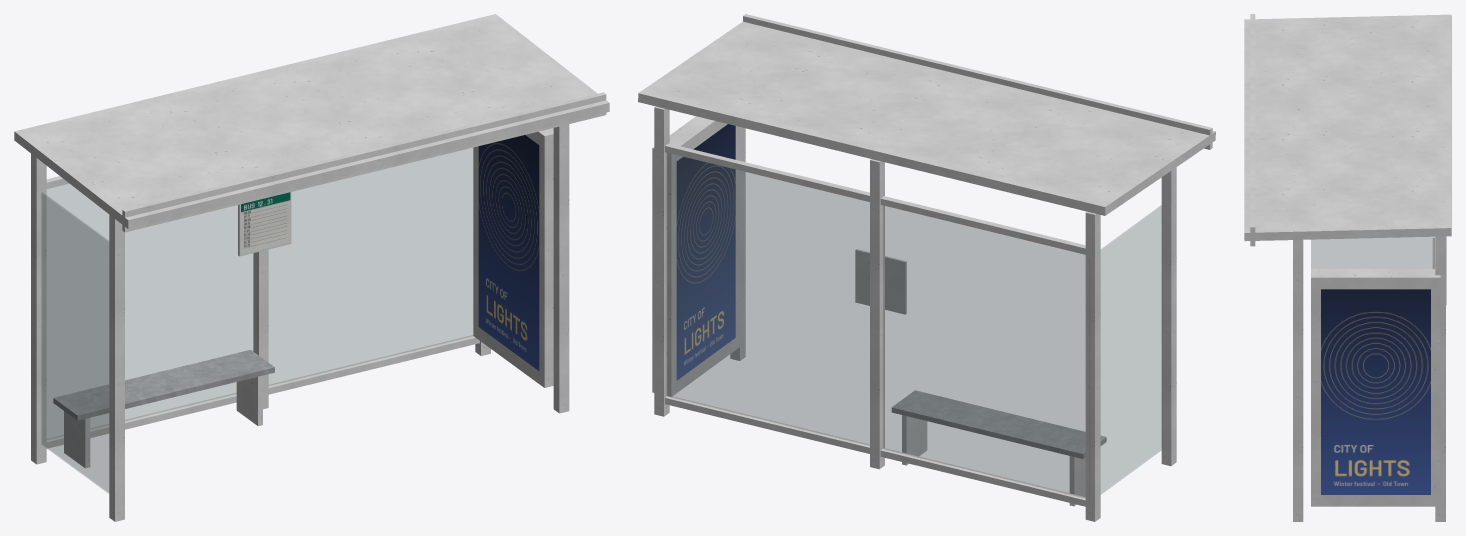
File: BusShelter.obj
The picture shows the model from 3 angles, left to right: view 1: azimuth 30°, elevation 25°; view 2: azimuth 150°, elevation 25°; view 3: azimuth 270°, elevation 25°; orthographic projection. The views are drawn at different scales.
Visible parts, largest first — view 1: PaintAnthracite, Glass, Lightbox, Galvanised, Signs; view 2: Glass, PaintAnthracite, Lightbox, Galvanised; view 3: PaintAnthracite, Lightbox, Glass.
Boxes of the visible parts, <box> form: PaintAnthracite: <box>14,14,609,521</box>; Glass: <box>41,148,473,493</box>; Lightbox: <box>478,135,539,370</box>; Galvanised: <box>53,349,274,420</box>; Signs: <box>241,192,290,254</box>; Glass: <box>668,153,1162,502</box>; PaintAnthracite: <box>638,14,1215,521</box>; Lightbox: <box>676,124,735,380</box>; Galvanised: <box>891,390,1106,458</box>; PaintAnthracite: <box>1244,14,1451,521</box>; Lightbox: <box>1321,289,1430,494</box>; Glass: <box>1311,236,1446,304</box>.
Size of the model in its own units: 3.9 by 2.56 by 1.6.
Materials: 5 (4 with a texture image).
